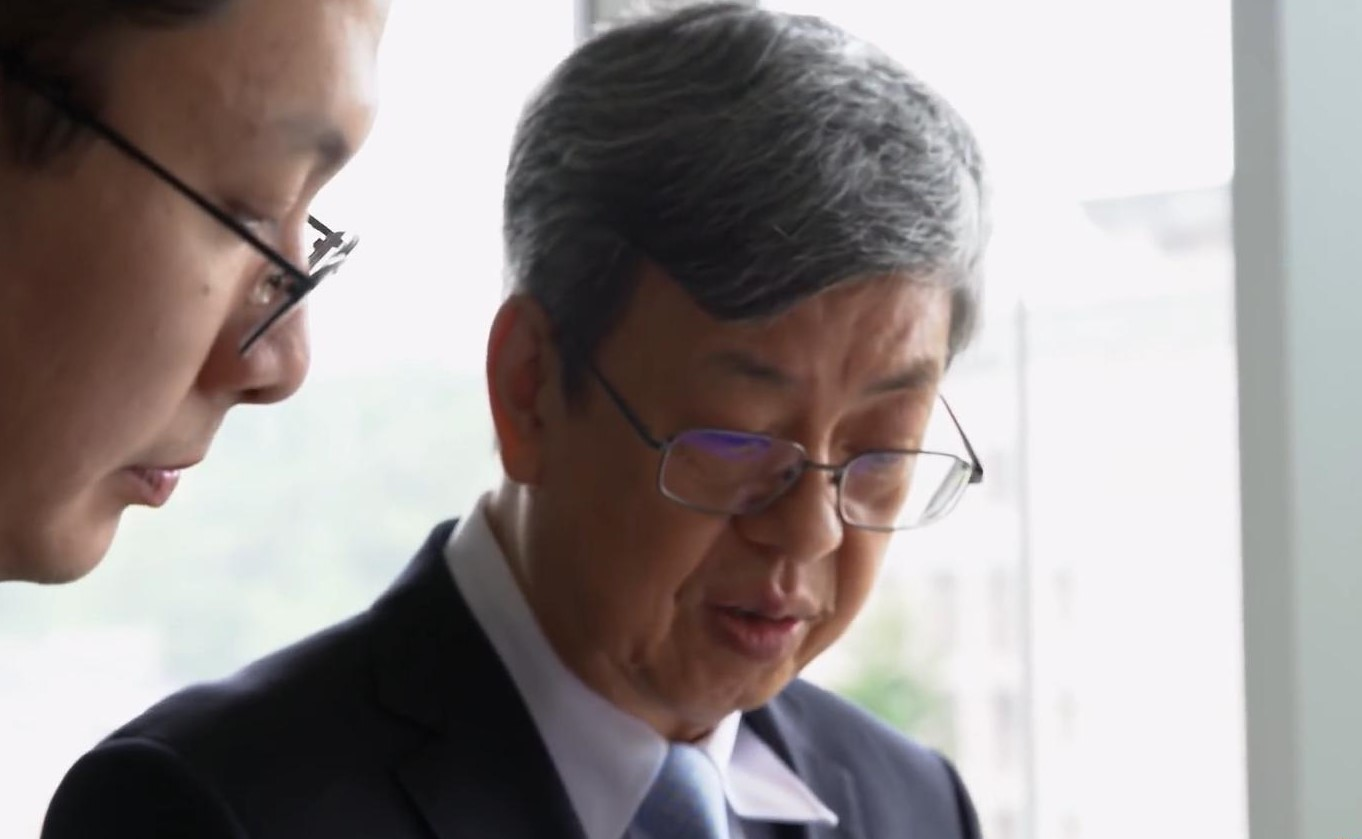without_mask: (40, 74, 277, 510), (583, 350, 881, 684)
